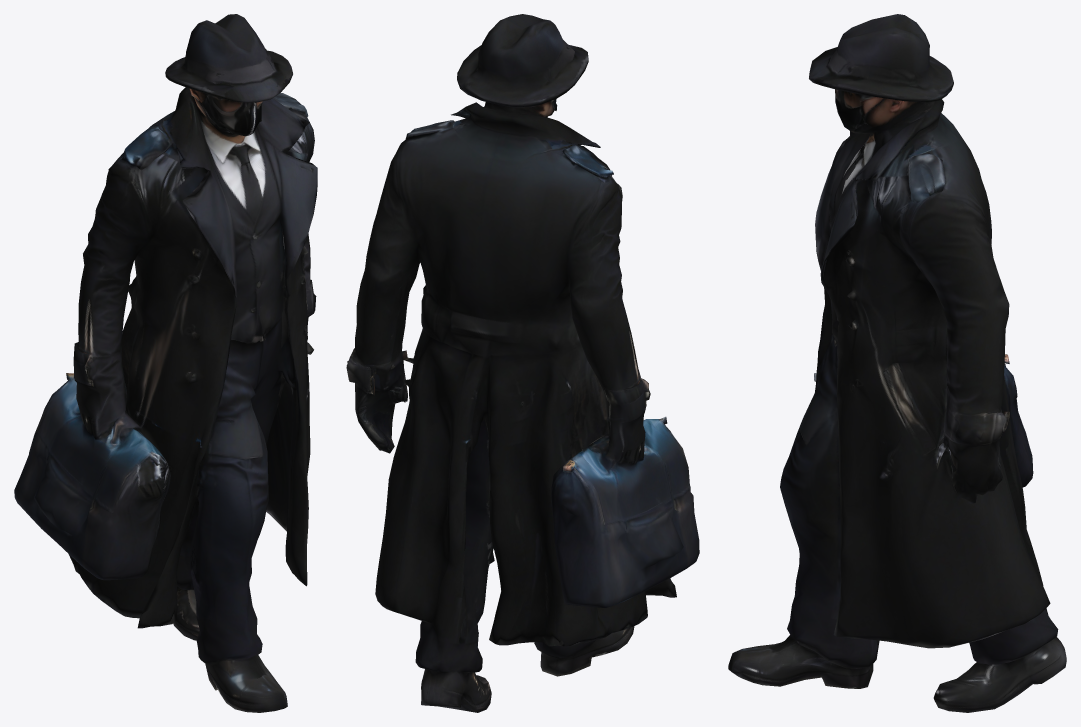
File: The_Shadow_Enforcer_0411034320_texture.glb
3 views of the same model, side by side, from view 1: azimuth 30°, elevation 25°; view 2: azimuth 150°, elevation 25°; view 3: azimuth 270°, elevation 25° (orthographic). The views are drawn at different scales.
Size of the model in its own units: 0.9393 by 2 by 0.9109.
1 material, 1 textured.
